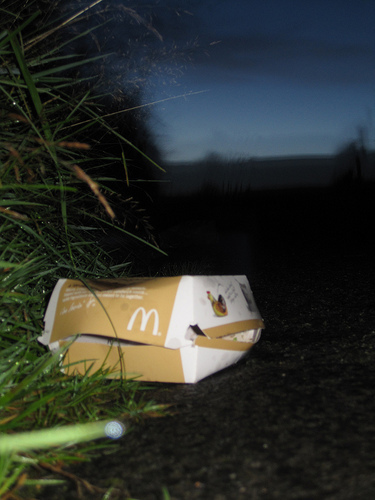litter: (38, 274, 263, 388)
